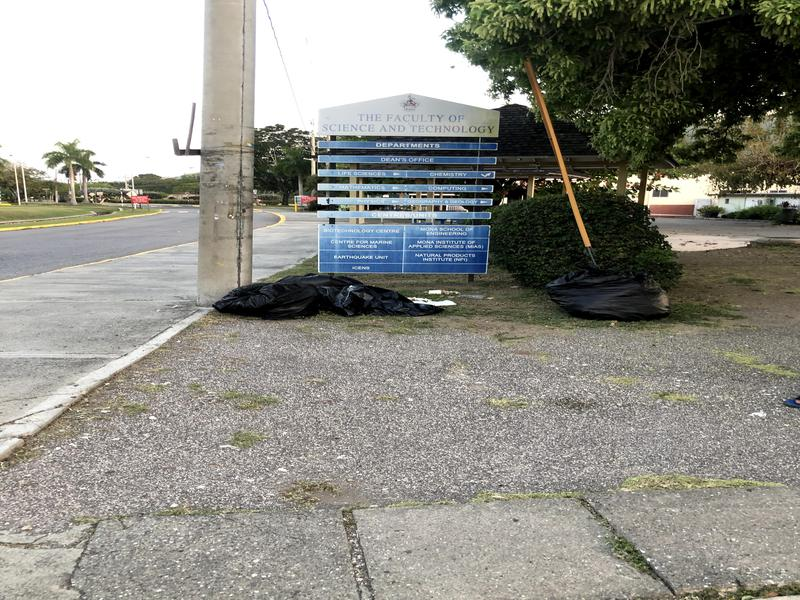18.0055634_-76.7484079_scitechsign: (297, 82, 505, 306)
